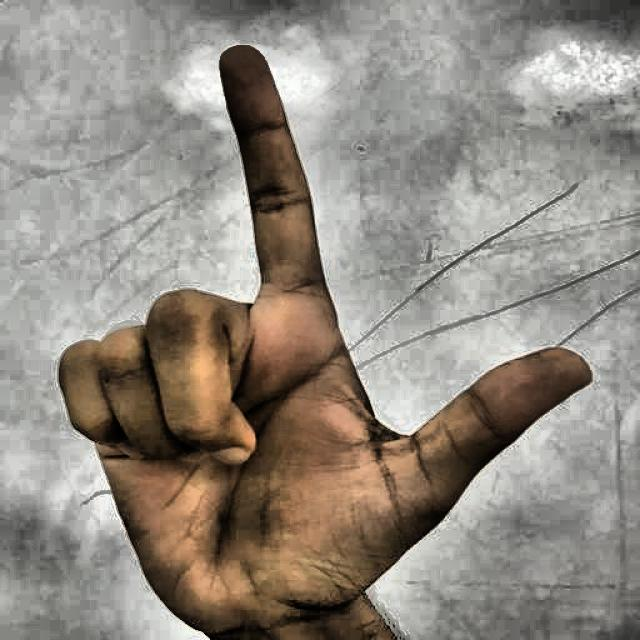La: (32, 23, 605, 630)
